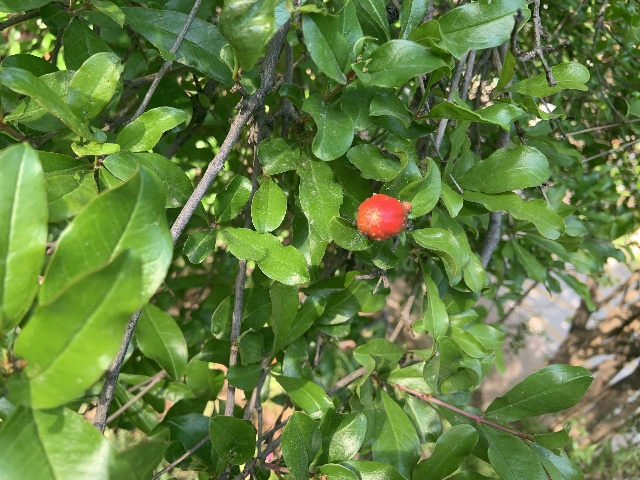bud: (356, 194, 407, 241), (401, 201, 411, 212)
